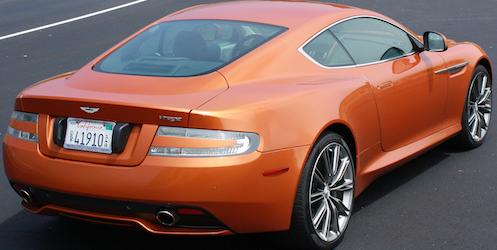back_view: (8, 102, 314, 238)
backlight: (145, 117, 262, 166)
side_glass: (303, 15, 429, 68)
